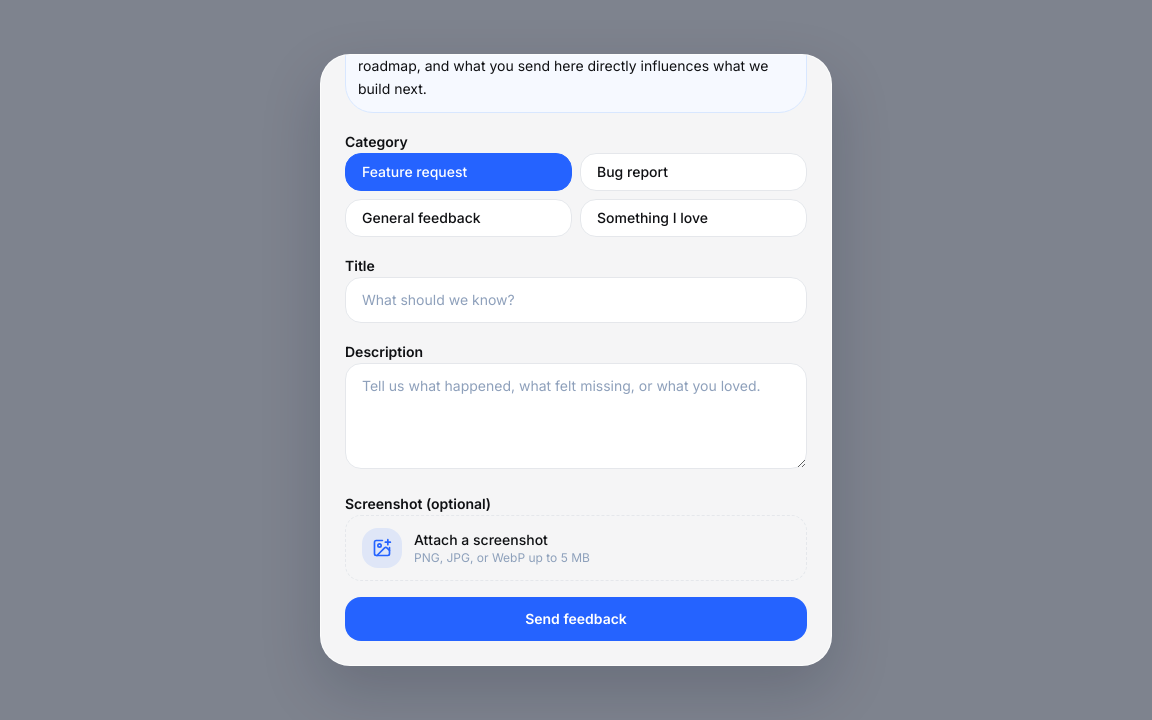
it: FeedbackComposerModal › validates title and description before submitting
The image size is (1152, 720).
(page scrolled)
Click the button "Send feedback".
click(576, 619)  # box [345,597,807,641]
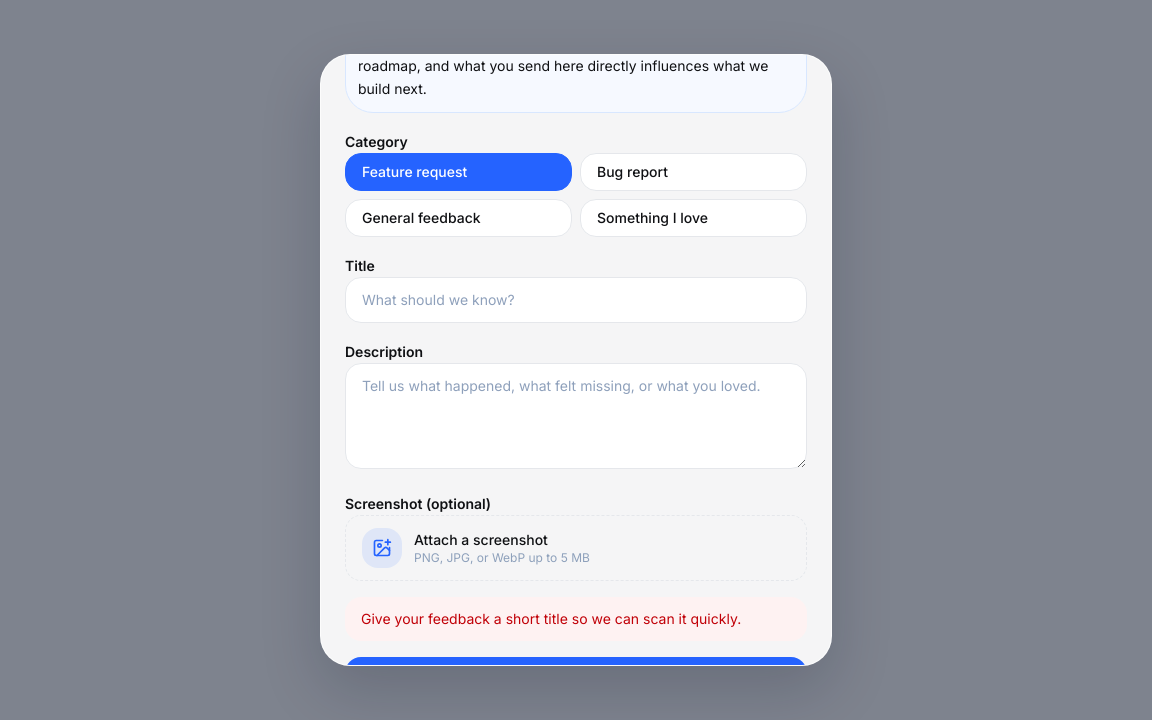
Expected: the text "Give your feedback a short title so we can scan it quickly." is shown, [345,597,807,641]
